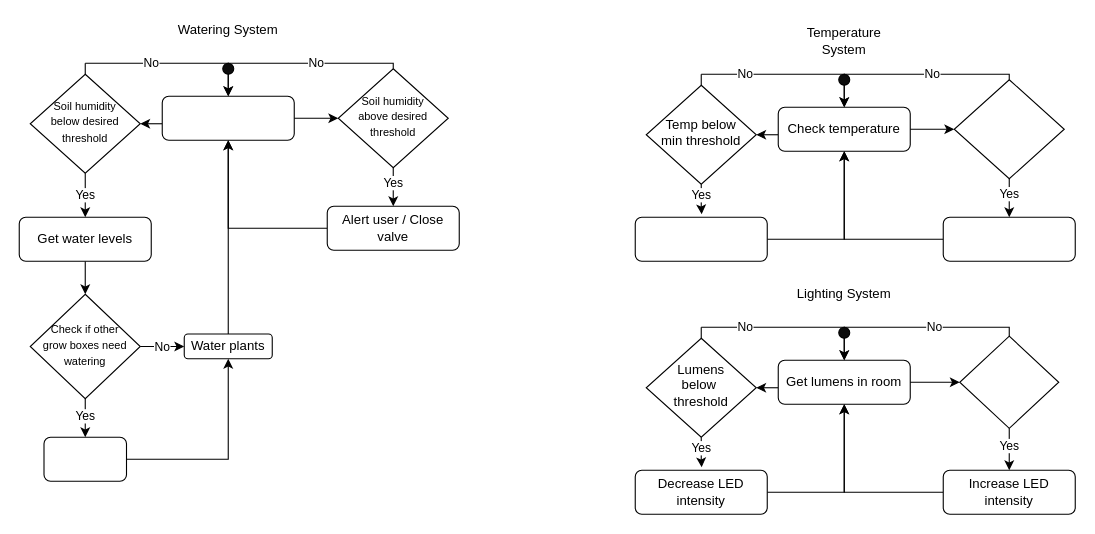
Image size: 1095x534. Some labels were removed from this diagram. The centre of each missing label's shape, as x and y in pixels:
"Decrease fan speed" belongs at (700,238).
"Get soil humidity" belongs at (227,117).
"Increase fan speed" belongs at (1008,238).
"Lumens above threshold" belongs at (1009,381).
"Temp above max threshold" belongs at (1008,129).
"Wait for other plants to be watered" belongs at (85,458).
